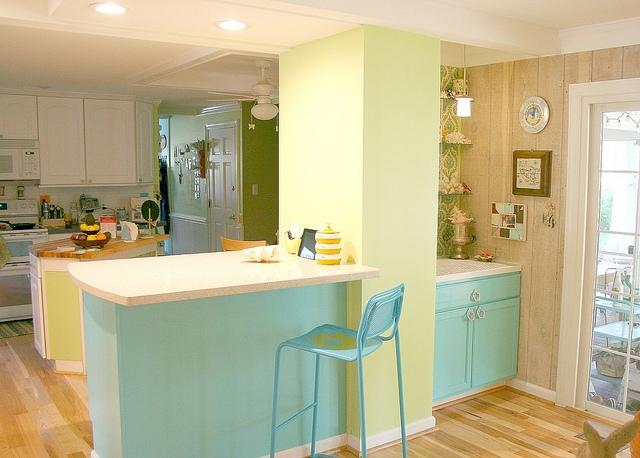lemon: (80, 224, 88, 231), (85, 226, 95, 231), (86, 235, 96, 240)
